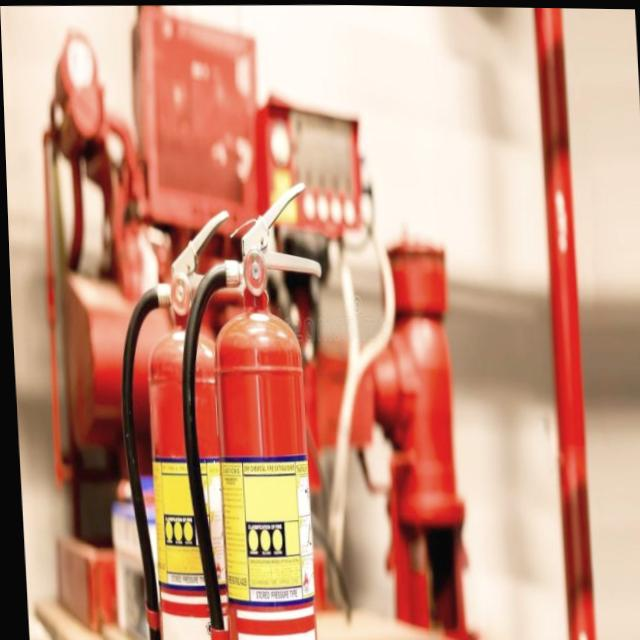FireExtinguisher: (166, 177, 339, 640), (107, 200, 271, 640)
